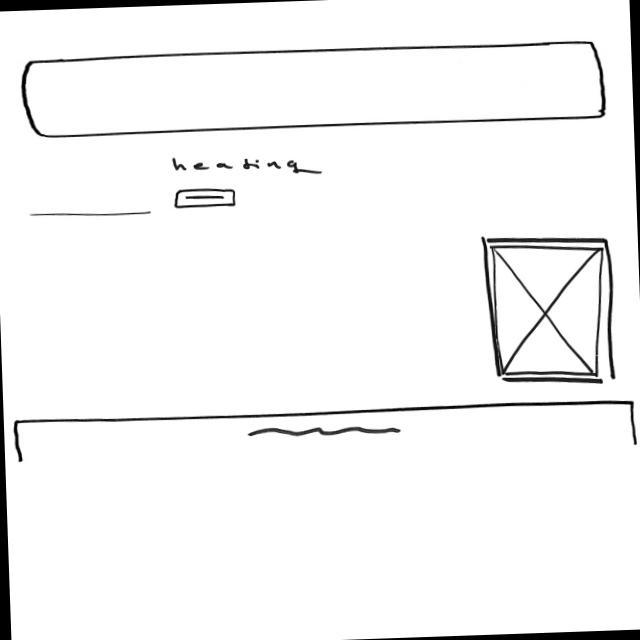container: (19, 39, 608, 143), (482, 232, 622, 390)
icon-button: (175, 188, 238, 210)
image: (490, 242, 607, 380)
label: (172, 152, 325, 181)
text: (247, 421, 403, 442)
